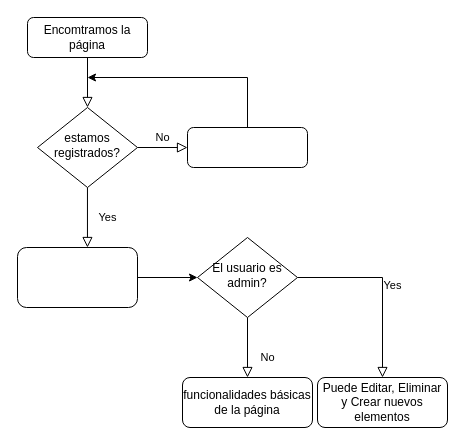
Some shapes in this 465 by 445 pixel diagram are drawn without their labels. Each missing label, with the box of its shape:
Iniciamos sesión: (16, 246, 138, 308)
Nos registramos: (186, 126, 308, 168)
